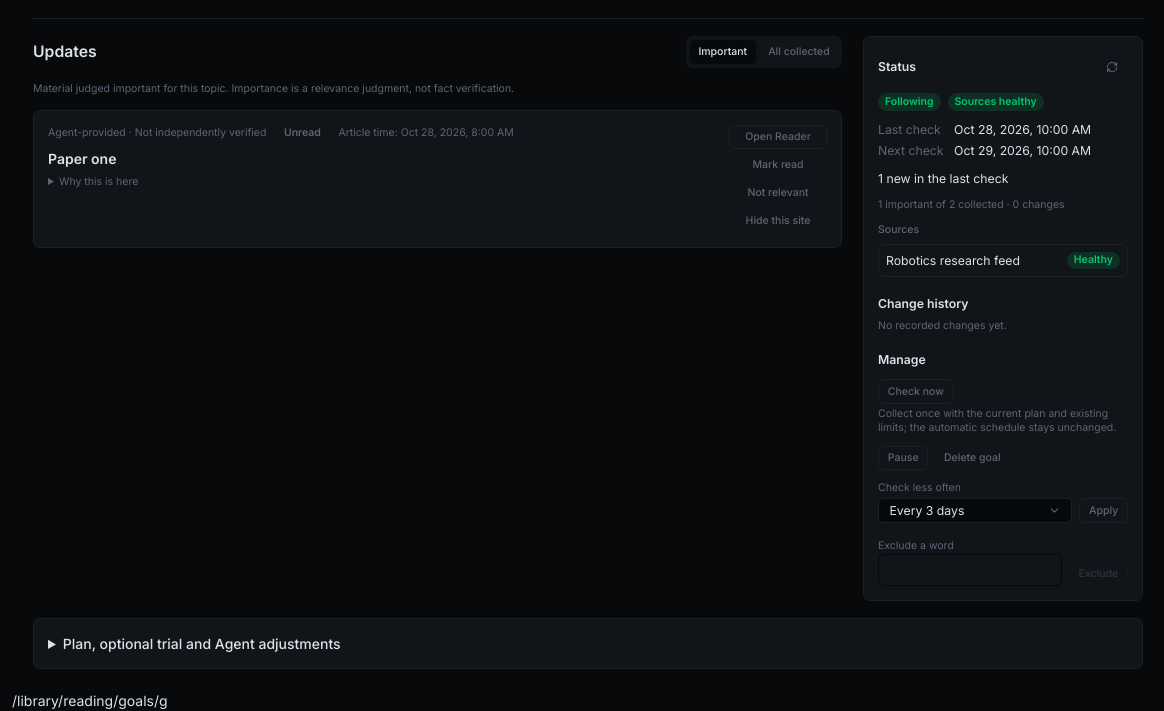
Test: shows a specific credential failure in the optional trial with its source settings
(page scrolled)
expect the link "Paper one" is shown: met, box top-left (48, 150), bottom-right (116, 167)
Click the heading "Plan, optional trial and Agent adjustments" at (202, 644), box top-left (63, 635), bottom-right (341, 652)
(page scrolled)
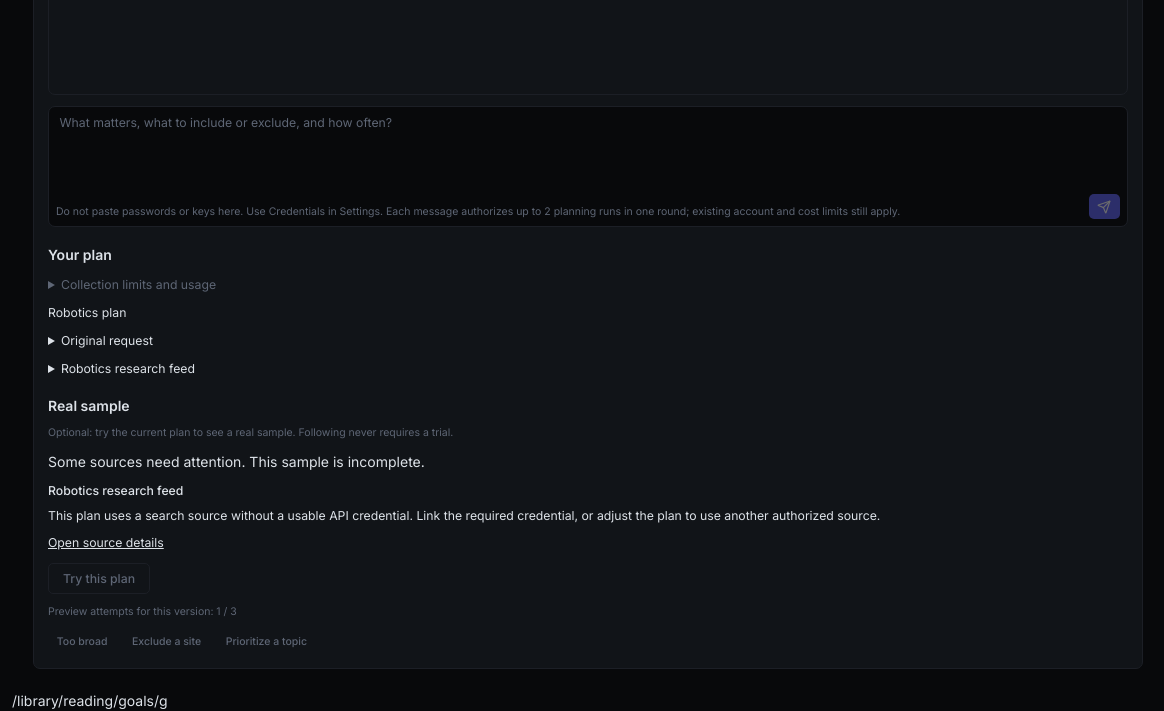
expect the text "This plan uses a search source without a usable API credential" is shown: met, box top-left (48, 508), bottom-right (880, 523)
